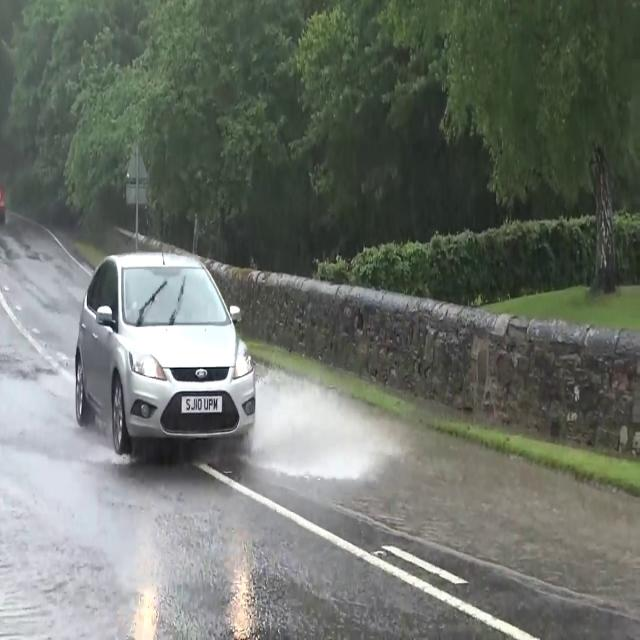license-plate-annotation: (181, 396, 226, 415)
